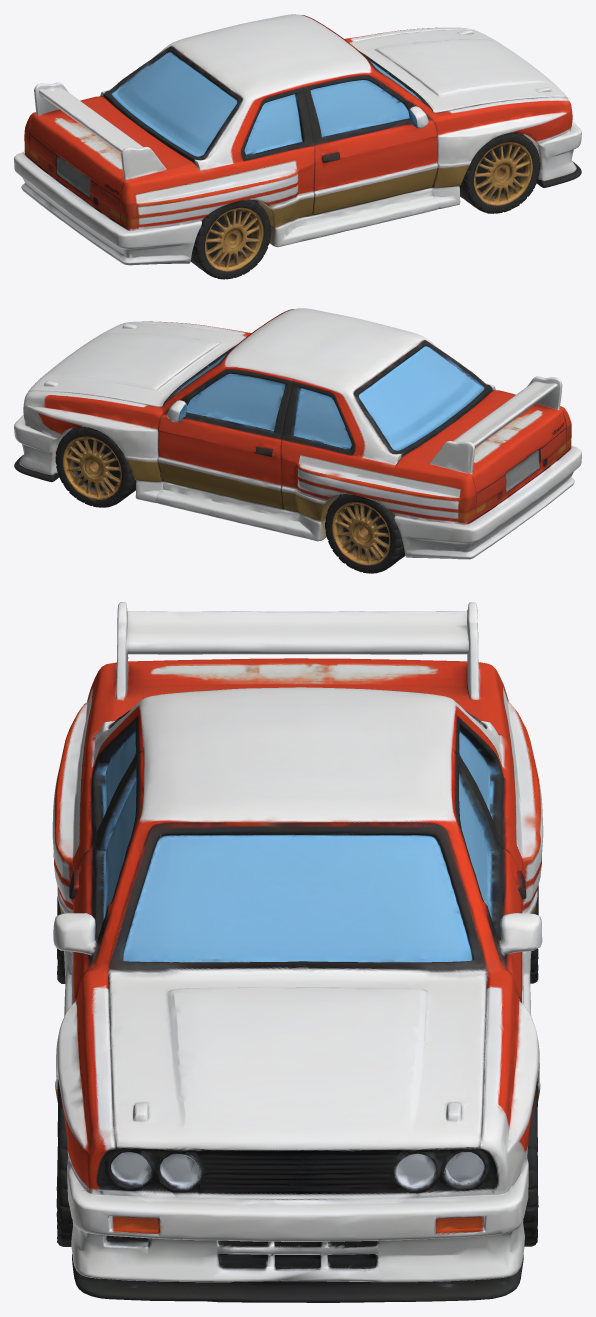
The model's file is coupe.glb.
3 views of the same model, one above another, from view 1: azimuth 30°, elevation 25°; view 2: azimuth 150°, elevation 25°; view 3: azimuth 270°, elevation 25° (orthographic). The views are drawn at different scales.
Visible parts, largest first — view 1: tripo_node_ab652227-bac2-49bd-b10c-39f95889fb09; view 2: tripo_node_ab652227-bac2-49bd-b10c-39f95889fb09; view 3: tripo_node_ab652227-bac2-49bd-b10c-39f95889fb09.
Boxes of the visible parts, bbox=[...] form: tripo_node_ab652227-bac2-49bd-b10c-39f95889fb09: bbox=[14, 14, 581, 279]; tripo_node_ab652227-bac2-49bd-b10c-39f95889fb09: bbox=[14, 308, 581, 573]; tripo_node_ab652227-bac2-49bd-b10c-39f95889fb09: bbox=[52, 602, 543, 1302].
Size of the model in its own units: 1 by 0.3329 by 0.4485.
Materials: 1 (1 with a texture image).
